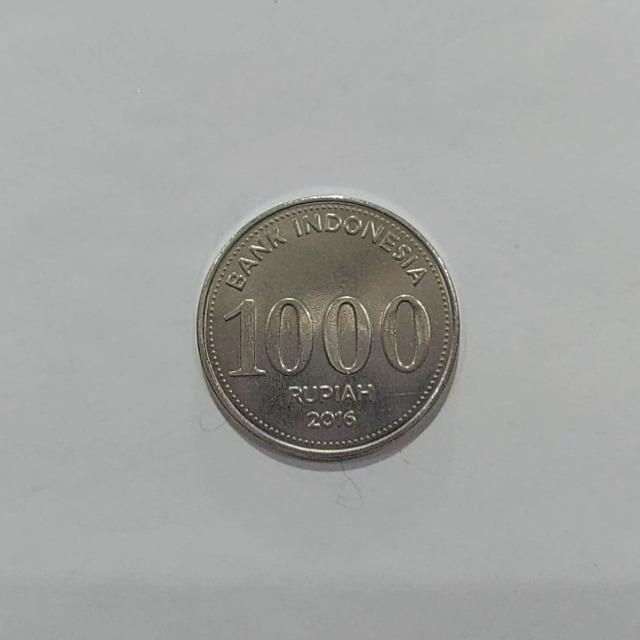Rp100: (194, 193, 461, 469)
